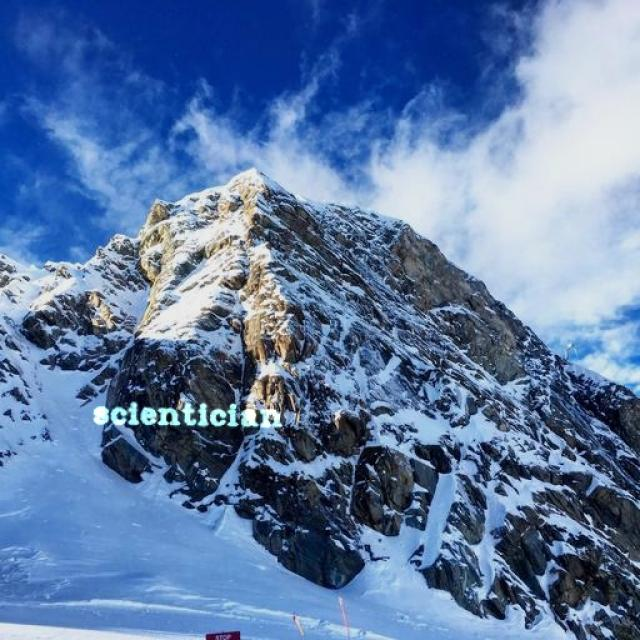watermark: (84, 400, 304, 429)
